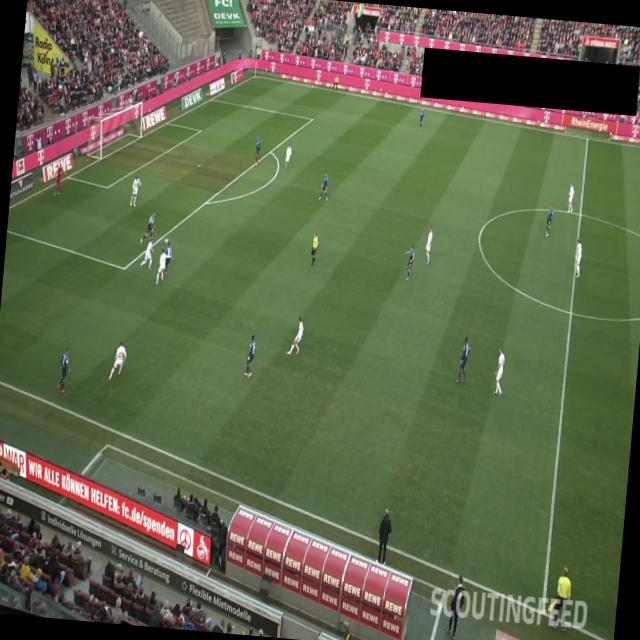ball: (164, 238, 168, 244)
goalkeeper: (53, 165, 62, 196)
player: (108, 338, 128, 382), (454, 334, 470, 384), (56, 346, 72, 394), (286, 314, 304, 356), (492, 346, 506, 398), (140, 210, 156, 246), (140, 234, 156, 270), (402, 243, 416, 281), (244, 333, 256, 377), (154, 247, 167, 286), (161, 238, 174, 274), (129, 175, 142, 208), (574, 238, 584, 278), (318, 170, 330, 202), (424, 226, 434, 264), (544, 202, 554, 238), (283, 142, 292, 170), (254, 136, 262, 166), (566, 182, 574, 212), (418, 106, 426, 130)
referee: (550, 564, 572, 632), (310, 230, 320, 266), (332, 73, 339, 93)
